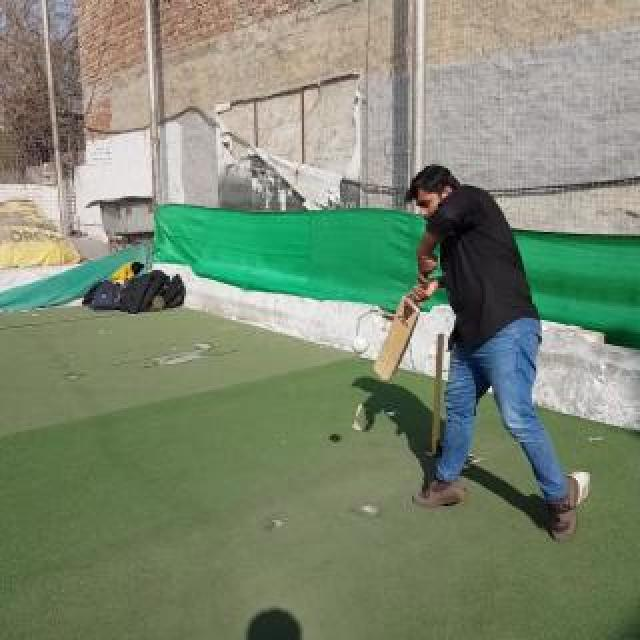ball: (351, 336, 369, 354)
bat: (373, 294, 421, 382)
